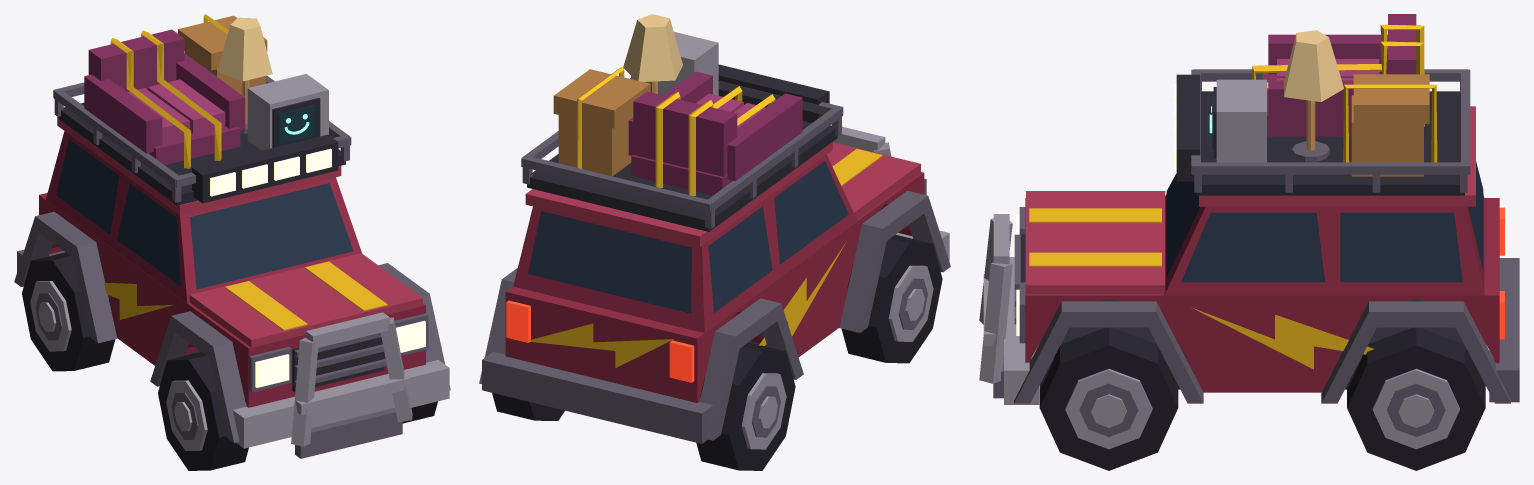
The model's file is rogue_car_LOD2.fbx.
3 renders of one model, left to right at view 1: azimuth 30°, elevation 25°; view 2: azimuth 150°, elevation 25°; view 3: azimuth 270°, elevation 25°, orthographic. The views are drawn at different scales.
Parts seen in each view (by area): view 1: Cargo_Couch_LOD2, Glass_Windscreen_LOD2, Bonnet_LOD2, Body_WheelCutShell_LOD2, Wheel_RL_LOD2, Wheel_FL_LOD2, Body_AngularCabin_LOD2, Front_Bumper_LOD2, Cargo_RetroTV_LOD2, WheelArch_RL_LOD2, WheelArch_FL_LOD2, Glass_Side_-1_0_LOD2 (+29 smaller); view 2: Body_WheelCutShell_LOD2, Cargo_Couch_LOD2, Glass_Rear_LOD2, Body_AngularCabin_LOD2, Rear_Bumper_LOD2, Wheel_FL_LOD2, Wheel_RL_LOD2, Rack_Base_LOD2, WheelArch_FL_LOD2, WheelArch_RL_LOD2, Roof_Cap_LOD2, Glass_Side_-1_0_LOD2 (+21 smaller); view 3: Body_WheelCutShell_LOD2, Wheel_FR_LOD2, Wheel_RR_LOD2, Bonnet_LOD2, Body_AngularCabin_LOD2, Rack_Base_LOD2, Glass_Side_1_0_LOD2, Glass_Side_1_1_LOD2, Cargo_Couch_LOD2, WheelArch_RR_LOD2, WheelArch_FR_LOD2, Cargo_RetroTV_LOD2 (+22 smaller).
Boxes of the visible parts, left/top/right/bottom form: Cargo_Couch_LOD2: left=84, top=29, right=245, bottom=164; Glass_Windscreen_LOD2: left=190, top=183, right=353, bottom=289; Bonnet_LOD2: left=189, top=253, right=422, bottom=347; Body_WheelCutShell_LOD2: left=39, top=193, right=425, bottom=407; Wheel_RL_LOD2: left=22, top=252, right=115, bottom=371; Wheel_FL_LOD2: left=158, top=352, right=248, bottom=470; Body_AngularCabin_LOD2: left=46, top=131, right=361, bottom=303; Front_Bumper_LOD2: left=232, top=360, right=449, bottom=448; Cargo_RetroTV_LOD2: left=247, top=74, right=328, bottom=150; WheelArch_RL_LOD2: left=14, top=211, right=117, bottom=343; WheelArch_FL_LOD2: left=150, top=311, right=246, bottom=442; Glass_Side_-1_0_LOD2: left=117, top=183, right=180, bottom=285; Body_WheelCutShell_LOD2: left=505, top=172, right=924, bottom=402; Cargo_Couch_LOD2: left=628, top=71, right=802, bottom=195; Glass_Rear_LOD2: left=528, top=211, right=691, bottom=313; Body_AngularCabin_LOD2: left=513, top=154, right=857, bottom=332; Rear_Bumper_LOD2: left=482, top=351, right=713, bottom=443; Wheel_FL_LOD2: left=841, top=234, right=942, bottom=363; Wheel_RL_LOD2: left=696, top=342, right=795, bottom=470; Rack_Base_LOD2: left=527, top=120, right=837, bottom=231; WheelArch_FL_LOD2: left=839, top=190, right=950, bottom=332; WheelArch_RL_LOD2: left=700, top=298, right=803, bottom=440; Roof_Cap_LOD2: left=525, top=142, right=832, bottom=246; Glass_Side_-1_0_LOD2: left=774, top=161, right=848, bottom=264; Body_WheelCutShell_LOD2: left=1025, top=198, right=1499, bottom=392; Wheel_FR_LOD2: left=1039, top=327, right=1178, bottom=470; Wheel_RR_LOD2: left=1347, top=327, right=1485, bottom=470; Bonnet_LOD2: left=1026, top=191, right=1165, bottom=299; Body_AngularCabin_LOD2: left=1164, top=194, right=1484, bottom=295; Rack_Base_LOD2: left=1196, top=91, right=1464, bottom=195; Glass_Side_1_0_LOD2: left=1181, top=212, right=1324, bottom=282; Glass_Side_1_1_LOD2: left=1340, top=212, right=1462, bottom=282; Cargo_Couch_LOD2: left=1263, top=14, right=1416, bottom=136; WheelArch_RR_LOD2: left=1321, top=301, right=1510, bottom=403; WheelArch_FR_LOD2: left=1014, top=301, right=1203, bottom=403; Cargo_RetroTV_LOD2: left=1212, top=79, right=1266, bottom=162.
Bounding box in the file's own units: 3.25 × 4.55 × 5.7.
